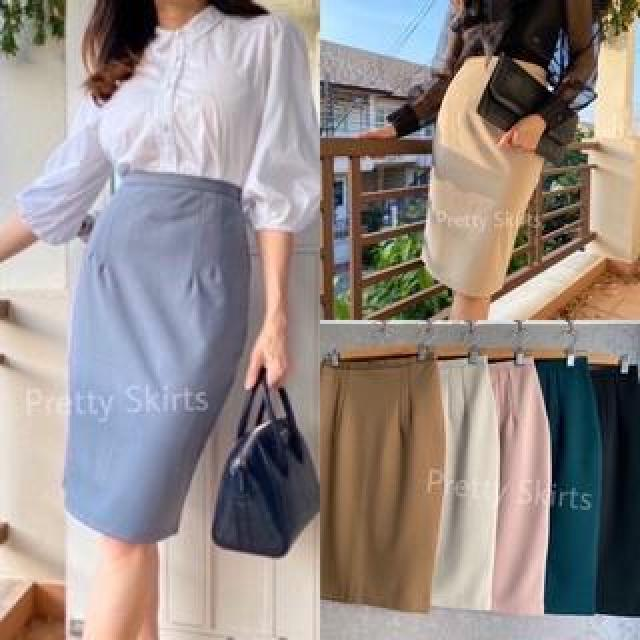shirt: (13, 14, 333, 264)
skirt: (53, 156, 253, 566), (409, 46, 561, 294)
